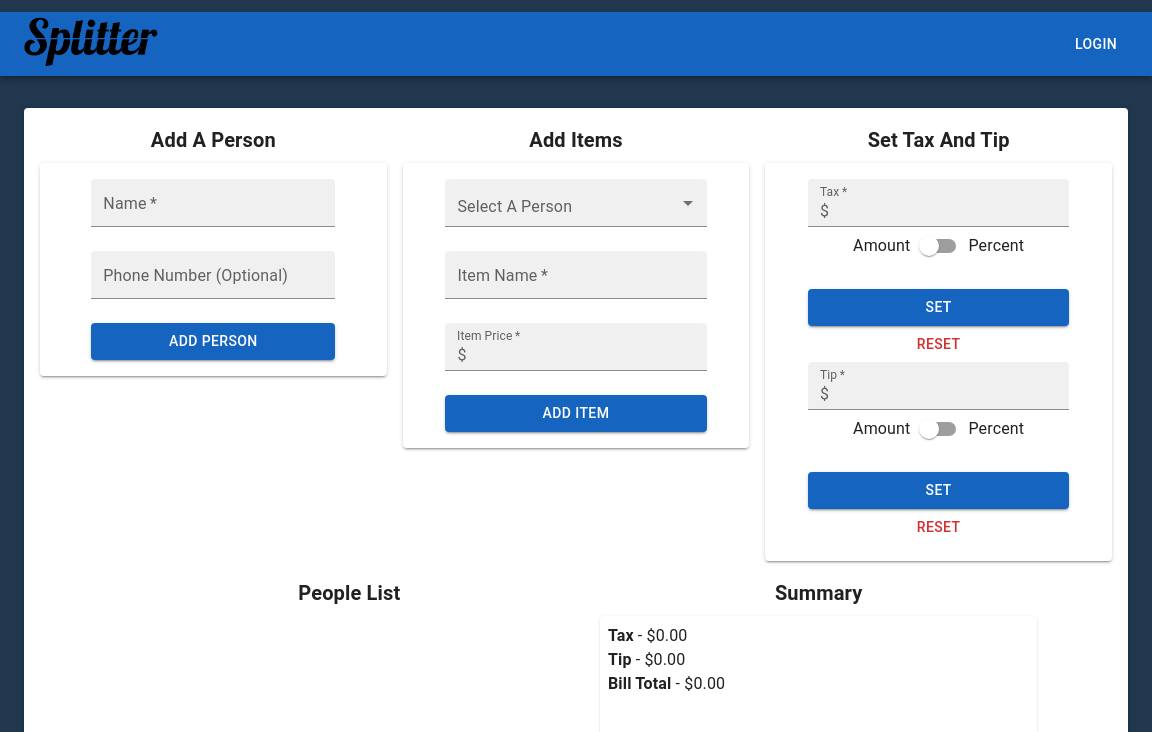
Test: Initial App Load › Login page loads in
Step 1. Click the link with class "loginbutton" → [1096, 44], box [1075,36,1117,52]
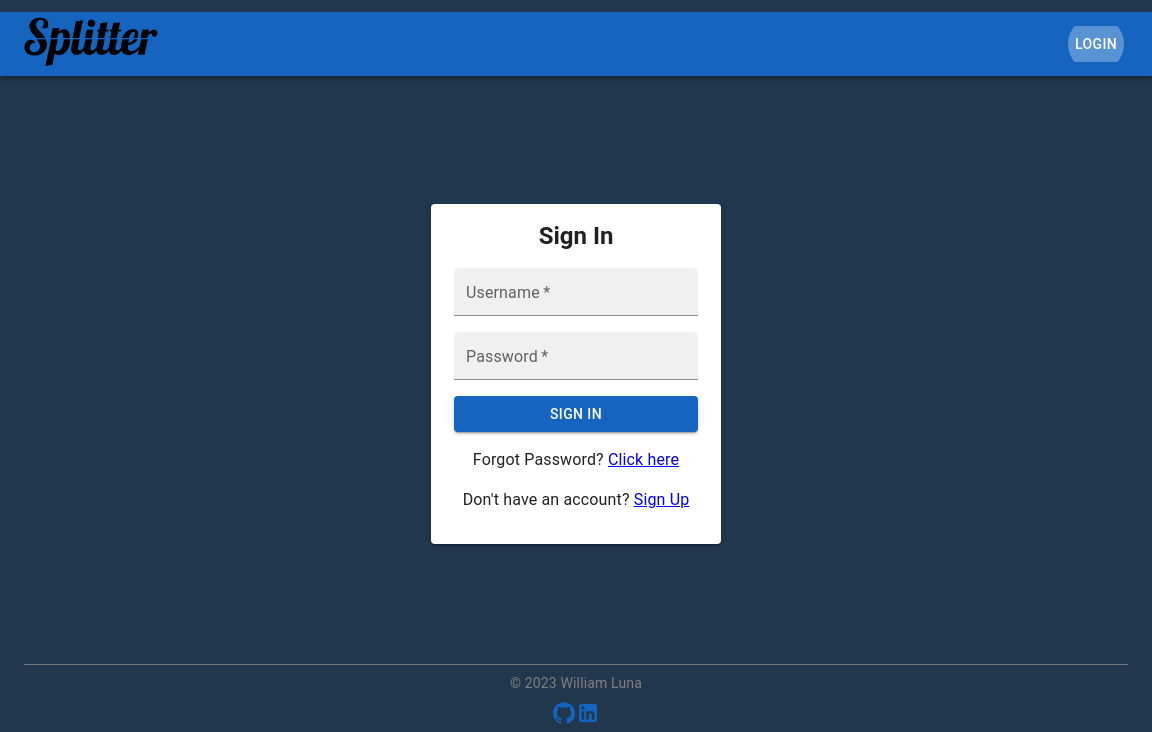
Now the text "Sign In" is shown, box [539,222,613,250]
